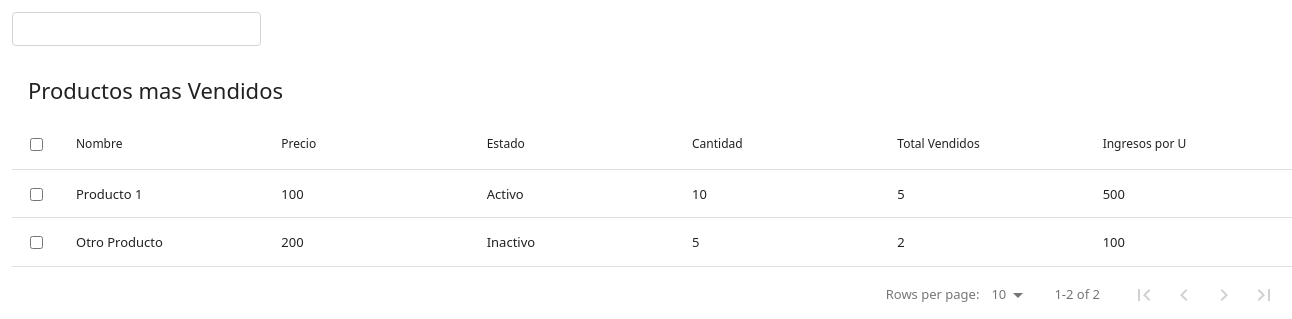
Test: TablaProductosMasVendidos › filtra los registros al escribir en el input de búsqueda
Check: the text "Producto 1" is shown, box [76, 184, 142, 202]
Check: the text "Otro Producto" is shown, box [76, 233, 163, 251]
Type "otro" into the field with test id "search-input" at (136, 29), box [12, 12, 261, 46]
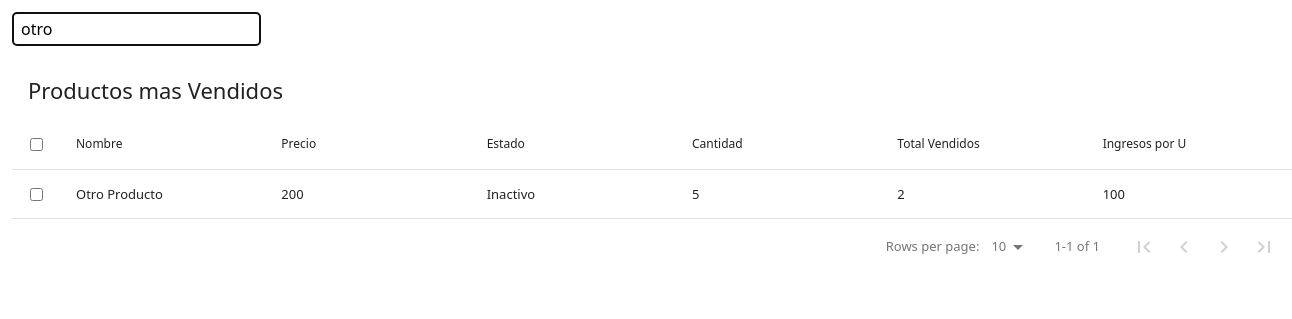
Check: the text "Otro Producto" is shown, box [76, 185, 163, 203]
Check: the text "Producto 1" is gone
